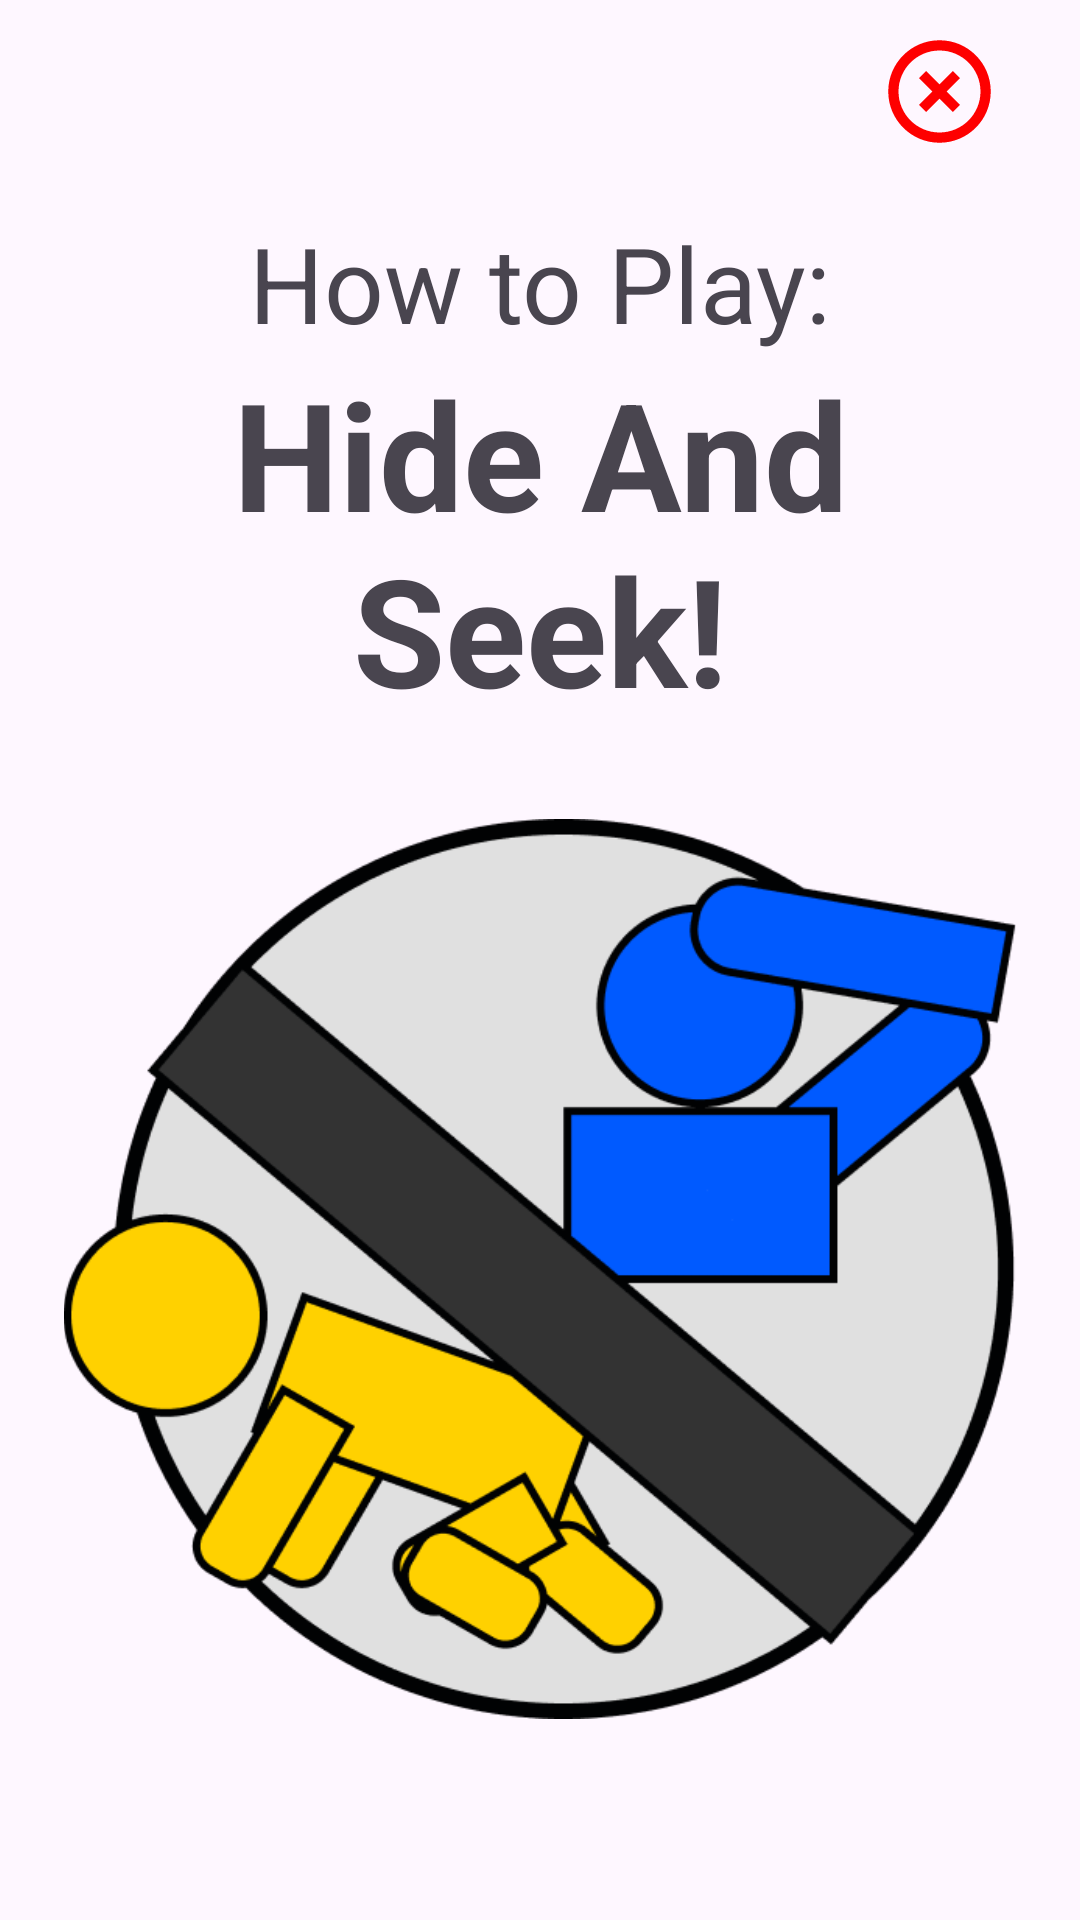

Where icons sit on this 1080 × 1920 app screen, as bbox(x1, y1, x2, y2):
eliminated: bbox(888, 40, 991, 143)
